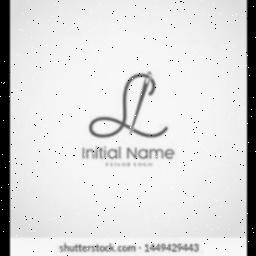l: (87, 70, 173, 140)
